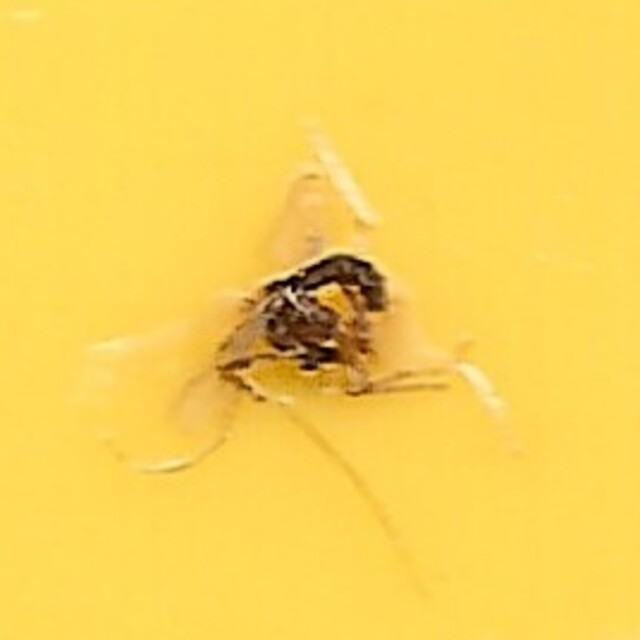Nematocera: (239, 236, 401, 404)
